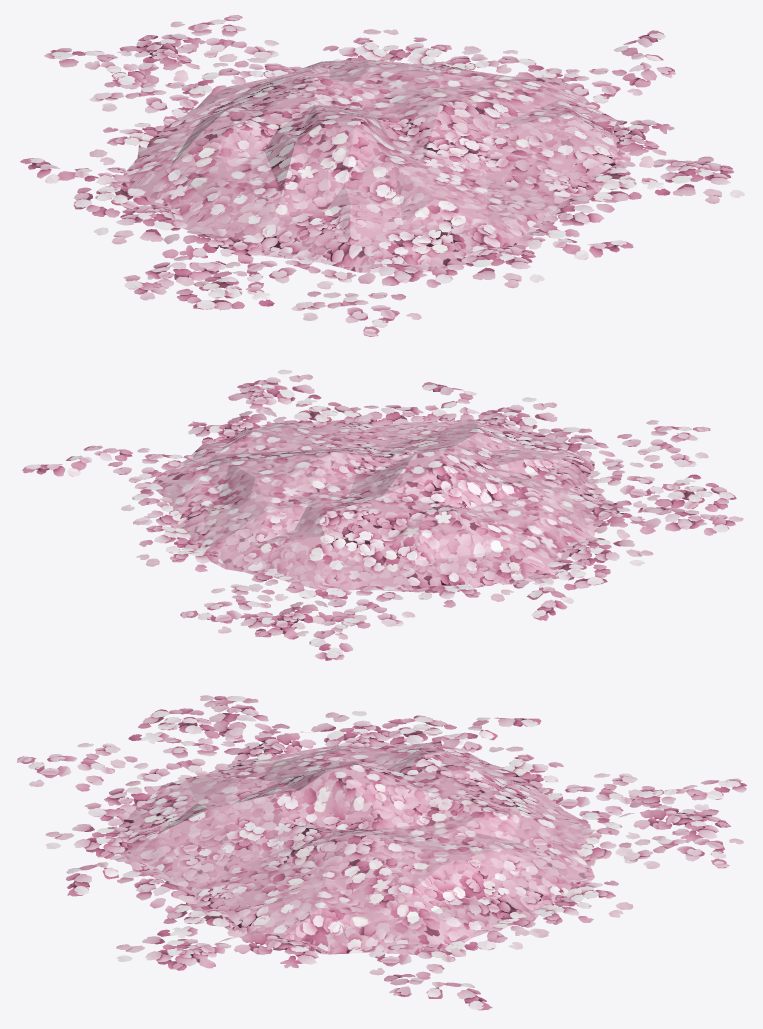
Rendered from SM_Env_CherryBlossom_Pile_01.fbx.
The picture shows the model from 3 angles, top to bottom: view 1: azimuth 30°, elevation 25°; view 2: azimuth 150°, elevation 25°; view 3: azimuth 270°, elevation 25°; orthographic projection. The views are drawn at different scales.
Visible parts, largest first — view 1: SM_Env_CherryBlossom_Pile_01; view 2: SM_Env_CherryBlossom_Pile_01; view 3: SM_Env_CherryBlossom_Pile_01.
Boxes of the visible parts, x1=… form: SM_Env_CherryBlossom_Pile_01: x1=20, y1=15, x2=744, y2=336; SM_Env_CherryBlossom_Pile_01: x1=22, y1=369, x2=743, y2=660; SM_Env_CherryBlossom_Pile_01: x1=17, y1=695, x2=746, y2=1010.
Bounding box in the file's own units: 510 × 42.5 × 495.
